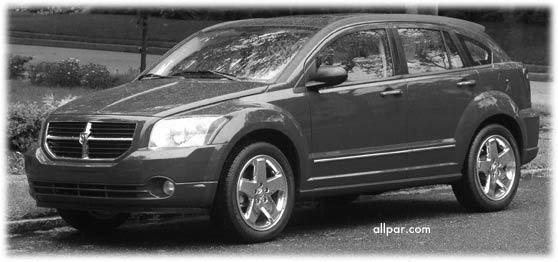car: (25, 16, 539, 244)
